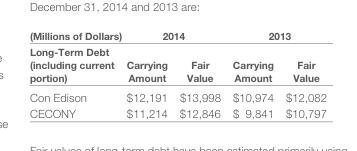table: (28, 29, 326, 119)
table column: (28, 29, 123, 119), (172, 29, 225, 119), (225, 29, 278, 119), (123, 29, 172, 119), (278, 29, 326, 119)
table column header: (28, 29, 326, 86)
table row: (28, 49, 326, 86), (28, 29, 326, 49), (28, 86, 326, 104), (28, 104, 326, 119)
table spanning cell: (28, 29, 123, 86), (123, 29, 225, 49), (225, 29, 326, 49)
